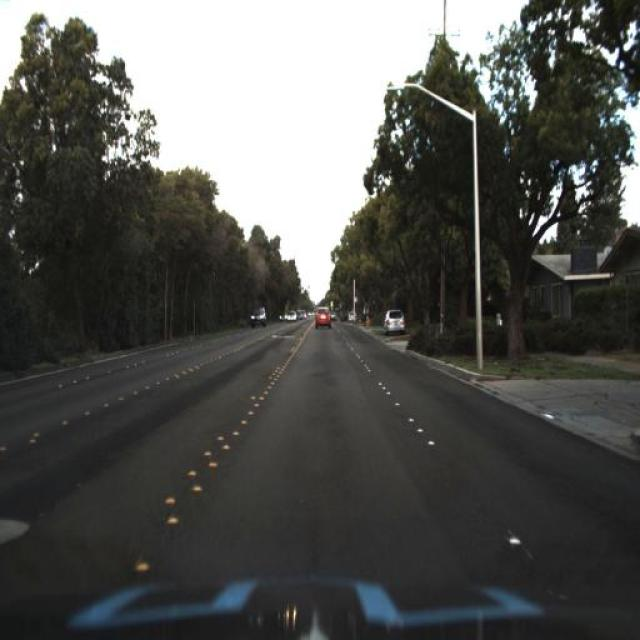car: (310, 300, 336, 336), (247, 297, 269, 335), (382, 306, 406, 340)
